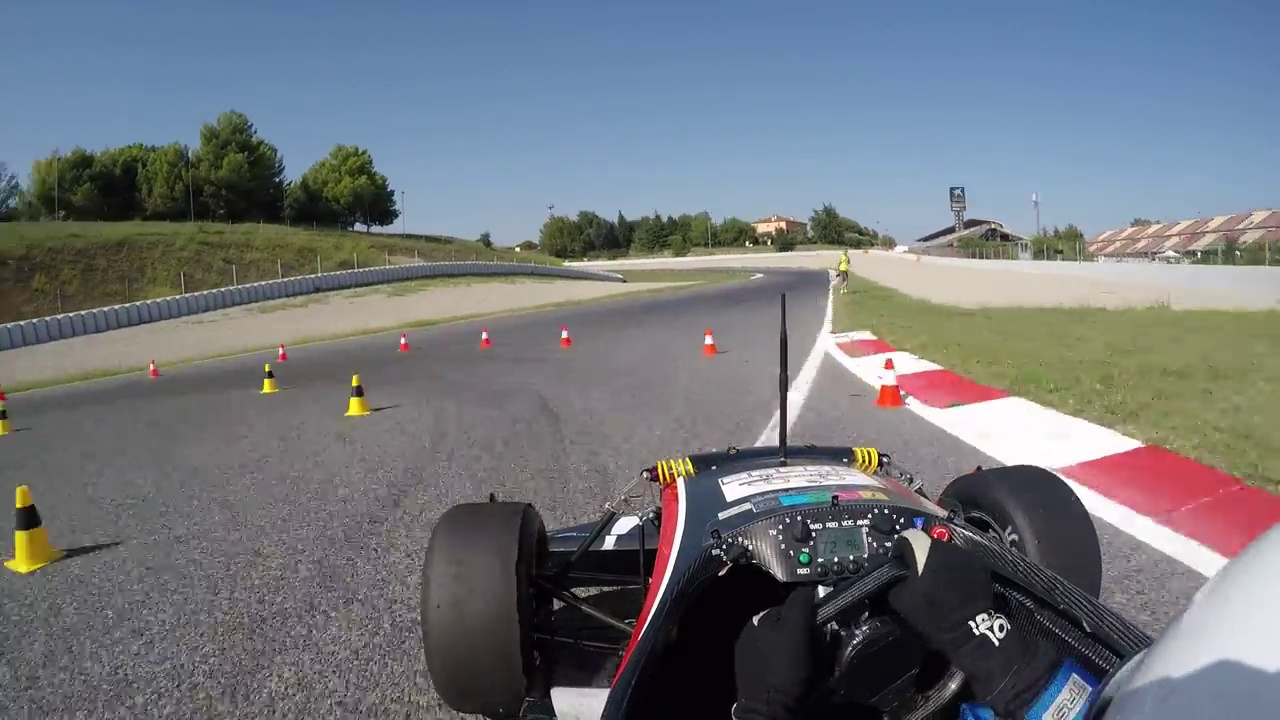Cone: (4, 482, 61, 575), (873, 357, 904, 408), (340, 371, 372, 420), (259, 364, 279, 395), (700, 325, 717, 356)
